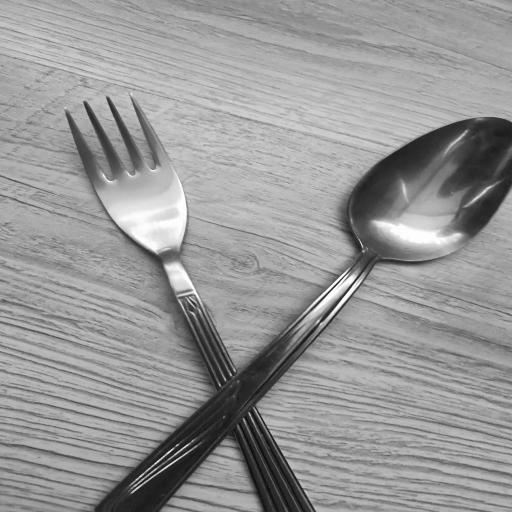fork: (52, 95, 315, 512)
spoon: (93, 114, 512, 512)
